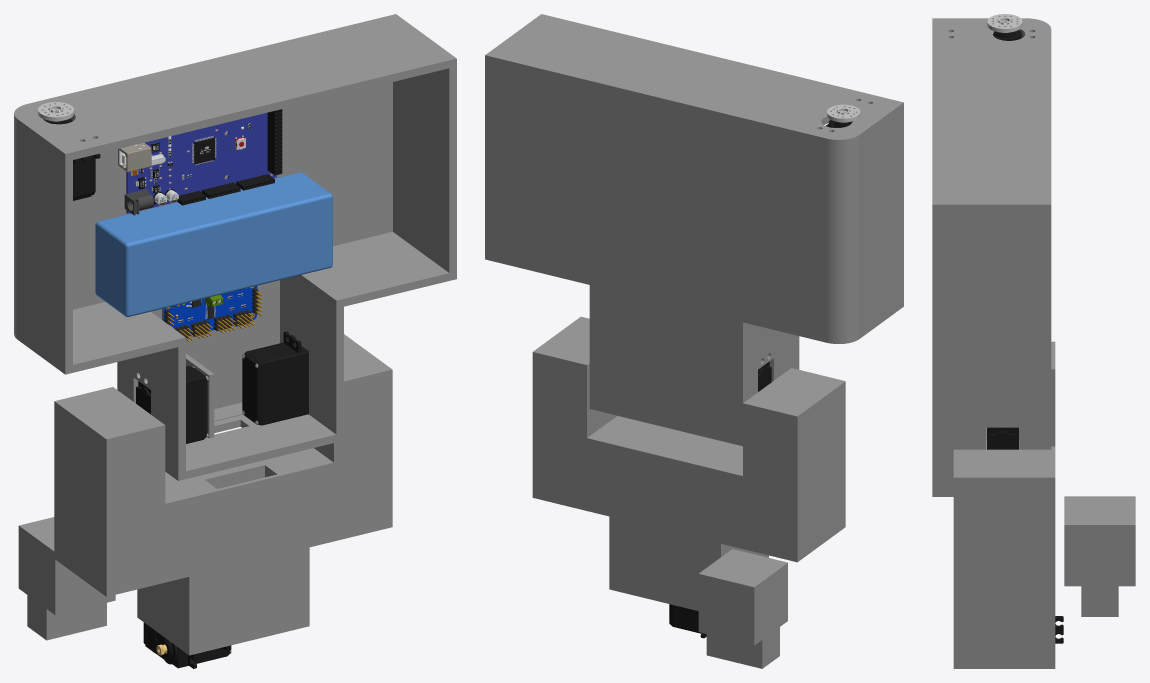
File: Assembly.fbx
3 renders of one model, left to right at view 1: azimuth 30°, elevation 25°; view 2: azimuth 150°, elevation 25°; view 3: azimuth 270°, elevation 25°, orthographic. The views are drawn at different scales.
Parts seen in each view (by area): view 1: Body1 (×5), Body6, Axel (×4), Body10, Body3; view 2: Body1 (×2), Body6, Axel; view 3: Body1 (×3), Body6, Axel, Sticker.
Boxes of the visible parts, <box> form: Body1 (×5): <box>14,14,456,640</box>; Body6: <box>54,334,392,655</box>; Axel (×4): <box>43,118,308,668</box>; Body10: <box>126,112,276,213</box>; Body3: <box>118,142,151,172</box>; Body1 (×2): <box>485,14,903,668</box>; Body6: <box>532,316,845,610</box>; Axel: <box>669,604,706,638</box>; Body1 (×3): <box>932,14,1135,616</box>; Body6: <box>953,341,1055,668</box>; Axel: <box>987,427,1018,449</box>; Sticker: <box>990,437,1015,449</box>.
Size of the model in its own units: 260 by 368 by 120.
